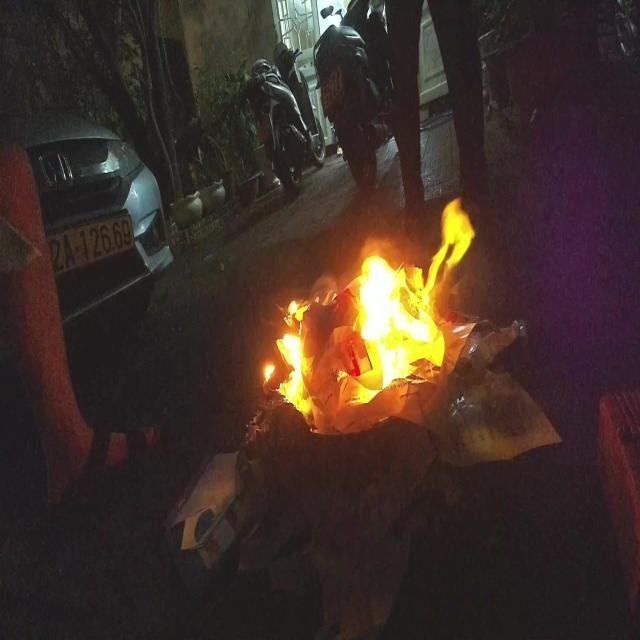Fire: (262, 188, 477, 450)
